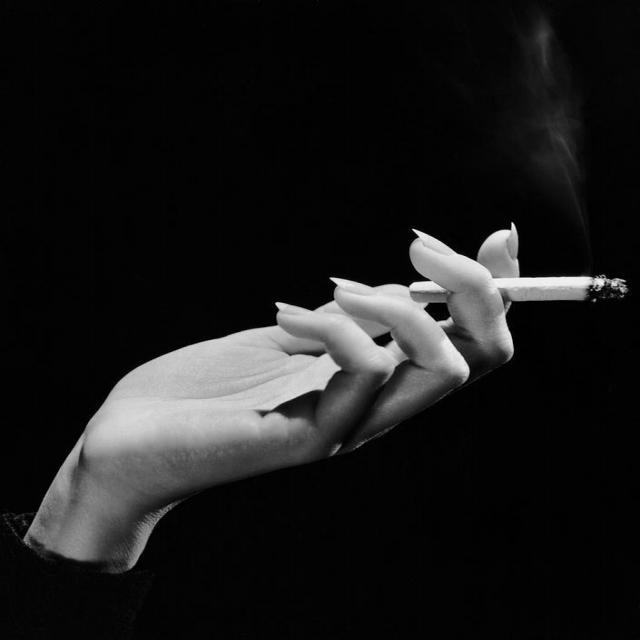cigarette: (506, 266, 631, 310)
